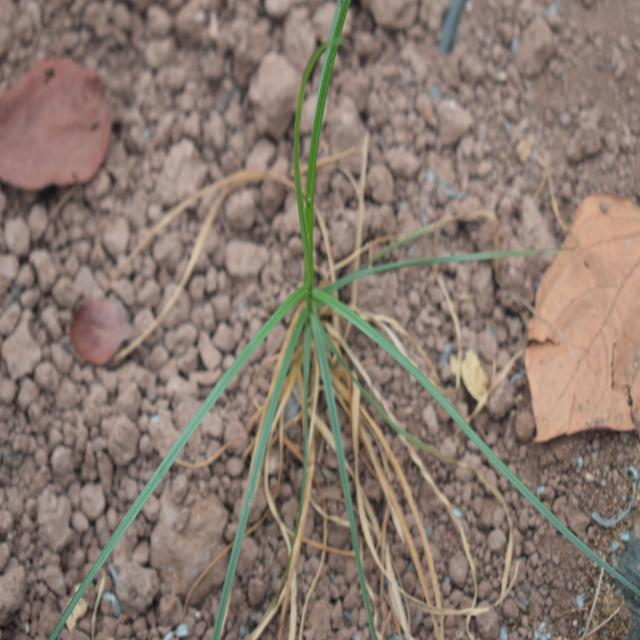sedge: (106, 25, 541, 594)
